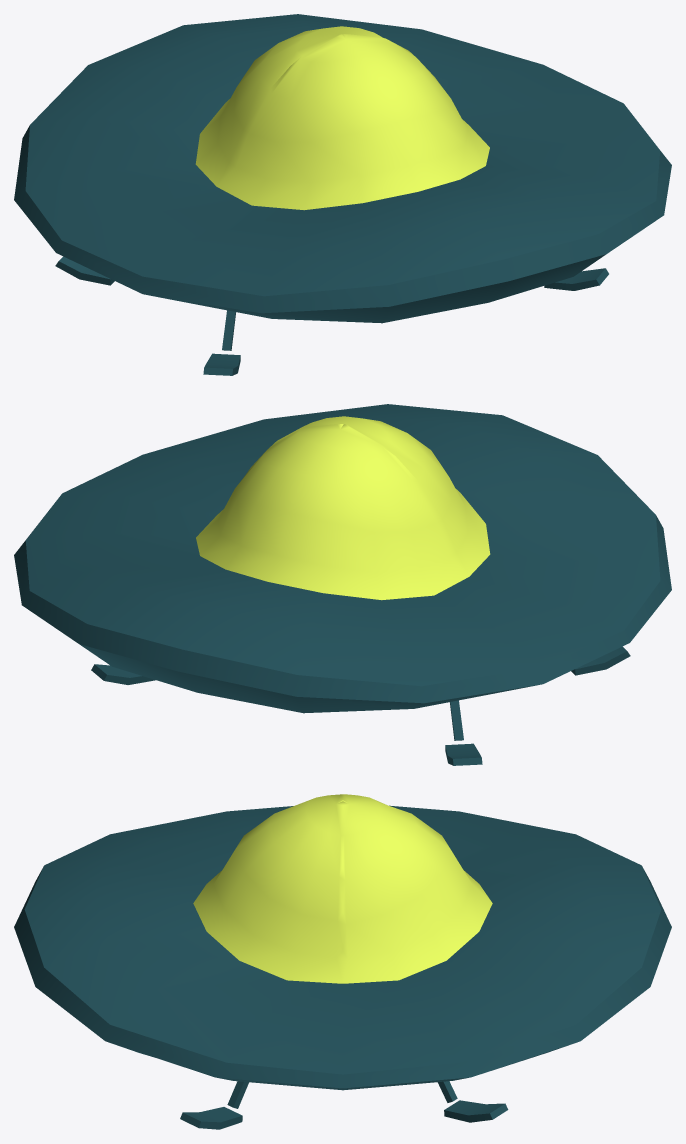
Rendered from AlienUfo.FBX.
3 views of the same model, one above another, from view 1: azimuth 30°, elevation 25°; view 2: azimuth 150°, elevation 25°; view 3: azimuth 270°, elevation 25° (orthographic).
Visible parts, largest first — view 1: Ufo01; view 2: Ufo01; view 3: Ufo01.
Boxes of the visible parts, x1=… form: Ufo01: x1=14, y1=14, x2=671, y2=375; Ufo01: x1=14, y1=404, x2=671, y2=765; Ufo01: x1=14, y1=794, x2=671, y2=1129.
Size of the model in its own units: 181 by 181 by 73.59.
